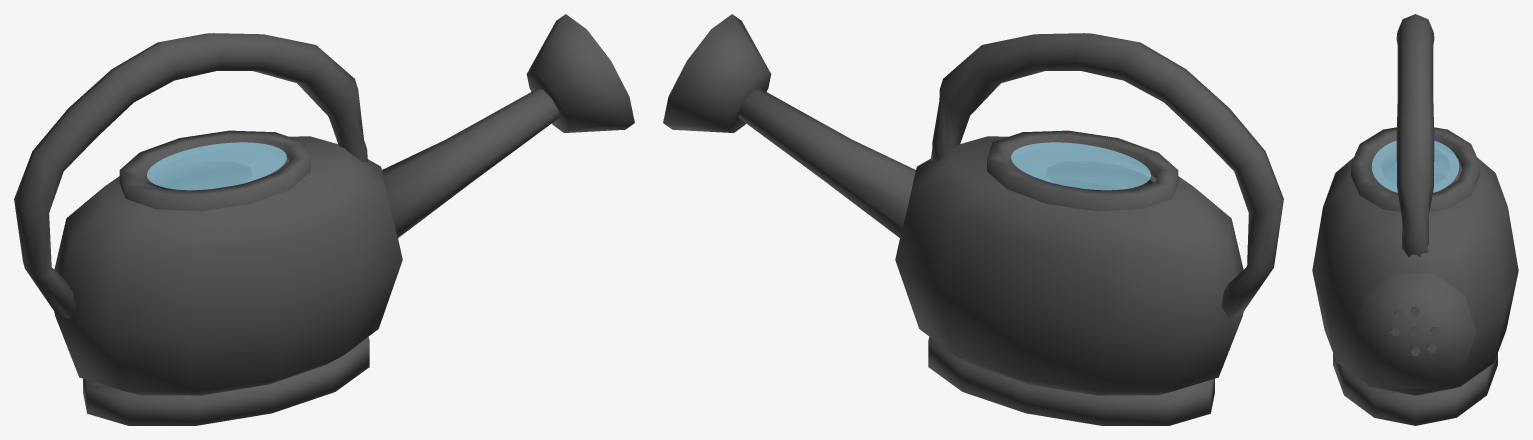
Rendered from WateringCan.glb.
3 renders of one model, left to right at view 1: azimuth 30°, elevation 25°; view 2: azimuth 150°, elevation 25°; view 3: azimuth 270°, elevation 25°, orthographic. The views are drawn at different scales.
Visible parts, largest first — view 1: WateringCan_Body, WateringCan_Handle, WateringCan_Fill_Rim, WateringCan_Spout, WateringCan_Base_Ring, WateringCan_Rose_Head, WateringCan_Water; view 2: WateringCan_Body, WateringCan_Handle, WateringCan_Fill_Rim, WateringCan_Spout, WateringCan_Base_Ring, WateringCan_Rose_Head, WateringCan_Water; view 3: WateringCan_Body, WateringCan_Rose_Head, WateringCan_Handle, WateringCan_Fill_Rim, WateringCan_Base_Ring, WateringCan_Water, WateringCan_Rose_Face_Dots.
Boxes of the visible parts, x1,y1,x2,y2 form: WateringCan_Body: [54, 136, 402, 395]; WateringCan_Handle: [14, 33, 367, 318]; WateringCan_Fill_Rim: [119, 130, 310, 211]; WateringCan_Spout: [382, 88, 559, 237]; WateringCan_Base_Ring: [83, 337, 369, 425]; WateringCan_Rose_Head: [526, 14, 634, 132]; WateringCan_Water: [147, 142, 286, 190]; WateringCan_Body: [895, 136, 1243, 395]; WateringCan_Handle: [930, 33, 1283, 318]; WateringCan_Fill_Rim: [987, 130, 1178, 211]; WateringCan_Spout: [738, 88, 915, 237]; WateringCan_Base_Ring: [928, 337, 1214, 425]; WateringCan_Rose_Head: [663, 14, 771, 132]; WateringCan_Water: [1011, 142, 1150, 190]; WateringCan_Body: [1312, 145, 1518, 395]; WateringCan_Rose_Head: [1354, 273, 1476, 388]; WateringCan_Handle: [1396, 14, 1434, 257]; WateringCan_Fill_Rim: [1351, 127, 1479, 212]; WateringCan_Base_Ring: [1333, 353, 1497, 425]; WateringCan_Water: [1371, 140, 1459, 192]; WateringCan_Rose_Face_Dots: [1390, 307, 1440, 355].
Bounding box in the file's own units: 3.61 × 2.03 × 1.2.
